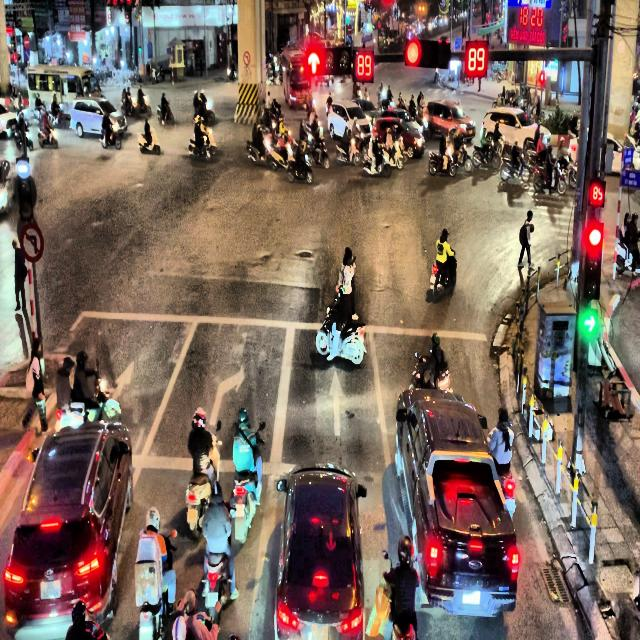lisence_plate: (39, 577, 62, 601), (461, 590, 482, 606), (310, 622, 329, 639)
